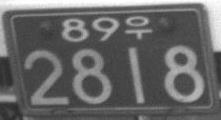1: (119, 47, 154, 104)
2: (23, 48, 70, 105)
8: (163, 44, 204, 104), (70, 47, 112, 105), (61, 17, 89, 42)
9: (91, 16, 120, 41)
우: (124, 15, 153, 39)
